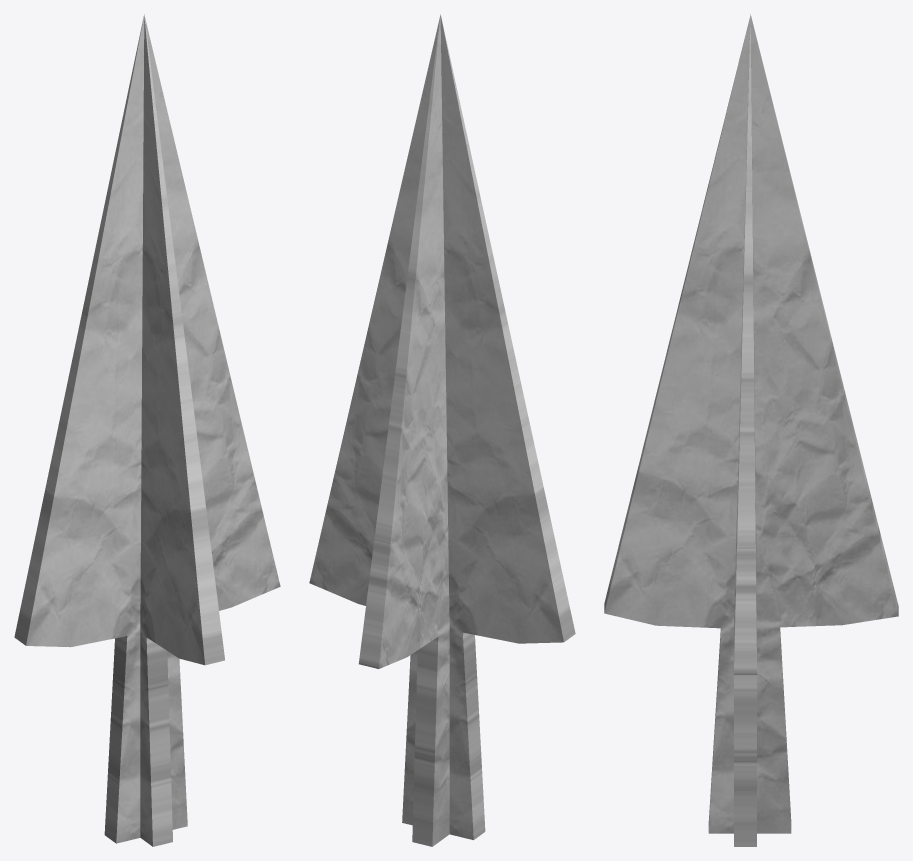
The model's file is TreeWhite_2.fbx.
3 views of the same model, side by side, from view 1: azimuth 30°, elevation 25°; view 2: azimuth 150°, elevation 25°; view 3: azimuth 270°, elevation 25° (orthographic).
Parts seen in each view (by area): view 1: Plane.001; view 2: Plane.001; view 3: Plane.001.
Boxes of the visible parts, x1,y1,x2,y2 form: Plane.001: (14,14,280,846); Plane.001: (309,14,575,846); Plane.001: (604,14,898,846).
Size of the model in its own units: 101 by 309 by 101.
